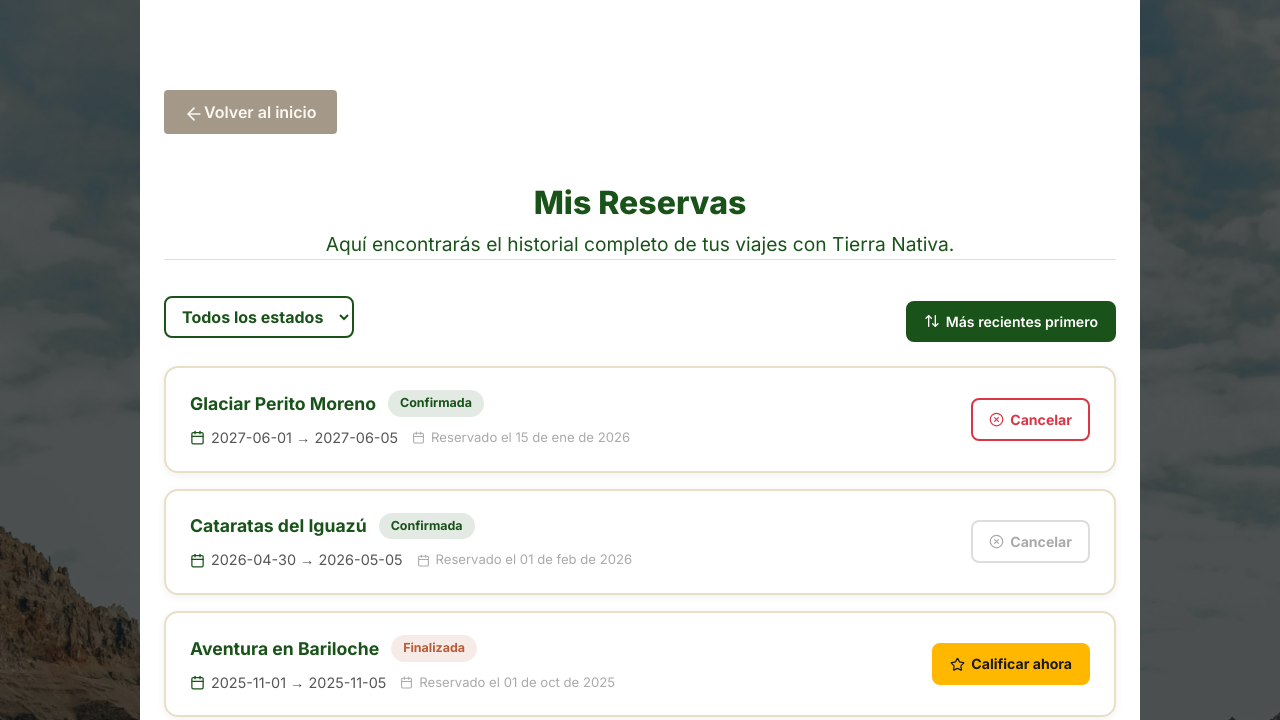
it: BookingHistoryPage › should filter bookings by CANCELLED status
Check: the heading "Mis Reservas" is shown, box [534,183,746,222]
Select "Canceladas" in the dropdown: (259, 317) [164,296,354,338]
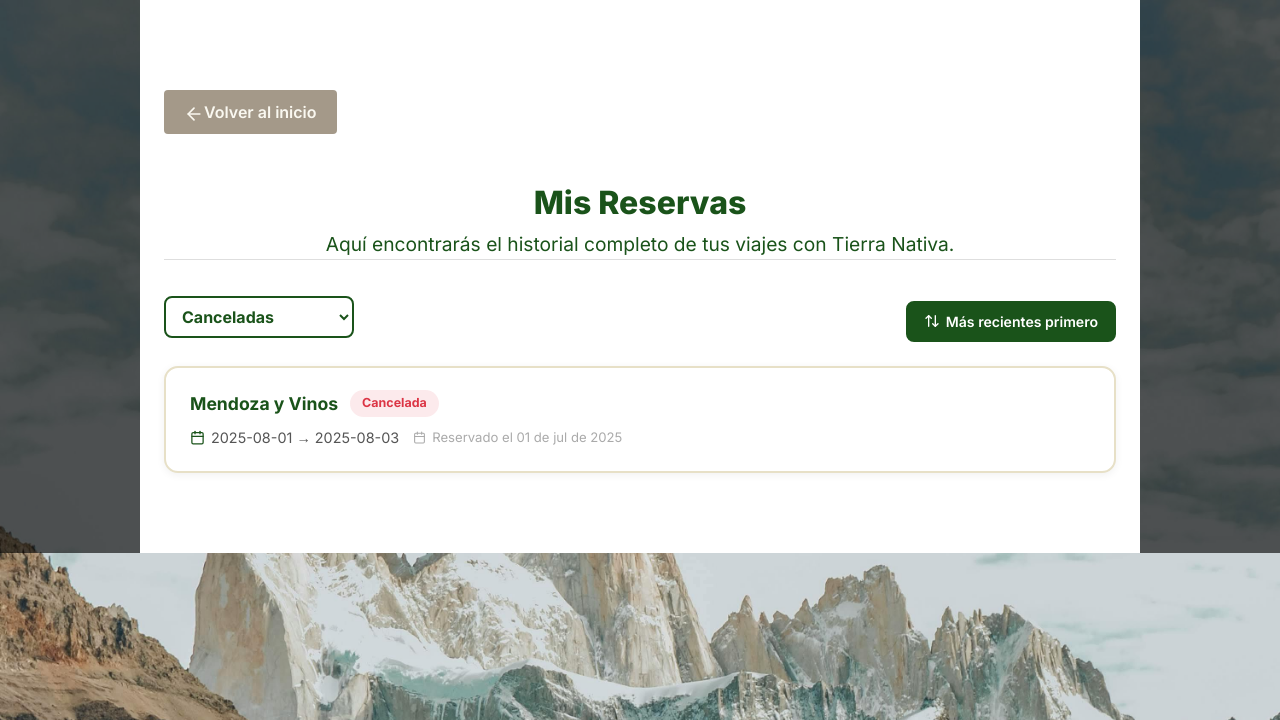
Check: the heading "Mendoza y Vinos" is shown, box [190,393,338,414]
Check: the heading "Glaciar Perito Moreno" is gone
